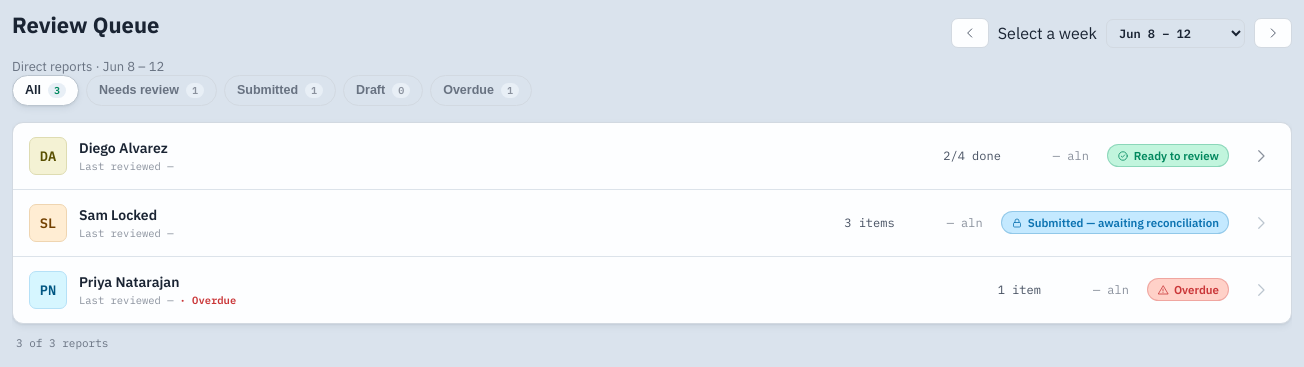
Scenario: ReviewQueue › applies a submission-status filter chip (Draft)
The width and height of the screenshot is (1304, 367).
What coordinates should you click on to do the following:
click the tab with test id "queue-filter-overdue"
I would click on:
 (481, 90)
Its box is [430,74,532,106].
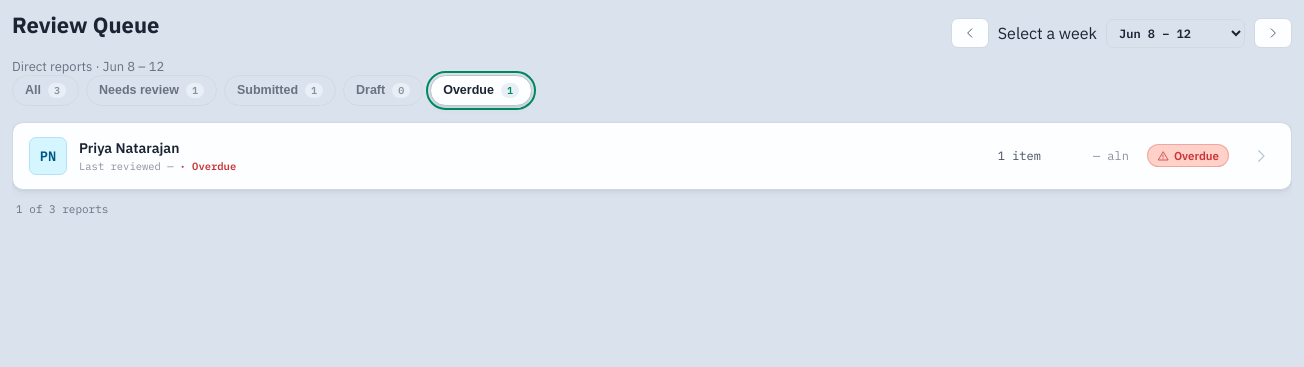
Expected: the text "Priya Natarajan" is shown, [79,138,179,156]
Now the number of elements with test id "queue-row" is 1, box [29,136,1275,174]
